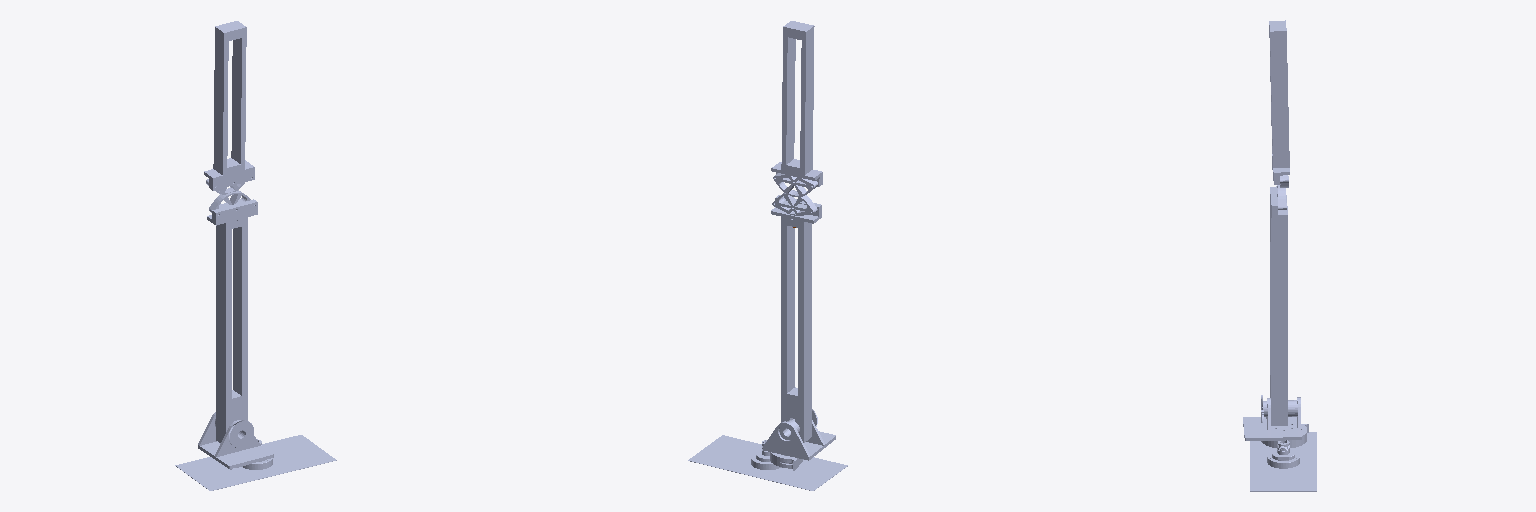
The robot description file, URDF, robot "robotic_arm":
<?xml version="1.0" encoding="utf-8"?>
<!-- This URDF was automatically created by SolidWorks to URDF Exporter! Originally created by [author] ([email redacted]) 
     Commit Version: 1.6.0-4-g7f85cfe  Build Version: 1.6.7995.38578
     For more information, please see http://wiki.ros.org/sw_urdf_exporter -->
<!-- Owner: [author]
    email: [email redacted] -->
<robot
  name="robotic_arm">
  <link name="world"/>

  <!-- JOINT b/W WORLD - BASE -->
  <joint name="base_link_fixed" type="fixed">
    <parent link="world"/>
    <child link="base_link"/>
    <origin xyz="0 0 0" rpy="0 0 0"/>
  </joint>

  <link
    name="base_link">
    <inertial>
      <origin xyz="0 0 0" rpy="0 0 0"/>
      <mass value="0.001"/>
      <inertia
        ixx="1e-6" ixy="0" ixz="0"
        iyy="1e-6" iyz="0"
        izz="1e-6"/>
    </inertial>
    <visual>
      <origin
        xyz="0 0 0"
        rpy="-1.5708 0 0" />
      <geometry>
        <mesh
          filename="package://robotic_arm/meshes/base_link.STL" />
      </geometry>
      <material
        name="">
        <color
          rgba="0.79216 0.81961 0.93333 1" />
      </material>
    </visual>
    <collision>
      <origin
        xyz="0 0 0"
        rpy="0 0 0" />
      <geometry>
        <mesh
          filename="package://robotic_arm/meshes/base_link.STL" />
      </geometry>
    </collision>
  </link>
  <link
    name="capstan_drive">
    <inertial>
      <origin
        xyz="-0.00010871 6.7353E-06 -0.017028"
        rpy="0 0 0" />
      <mass
        value="0.25255" />
      <inertia
        ixx="0.0001509"
        ixy="-2.9002E-09"
        ixz="4.457E-07"
        iyy="0.00015005"
        iyz="-5.7669E-09"
        izz="0.00025311" />
    </inertial>
    <visual>
      <origin
        xyz="0 0 -0.049"
        rpy="1.5708 0 0" />
      <geometry>
        <mesh
          filename="package://robotic_arm/meshes/capstan_drive.STL" />
      </geometry>
      <material
        name="">
        <color
          rgba="0.79216 0.81961 0.93333 1" />
      </material>
    </visual>
    <collision>
      <origin
        xyz="0 0 0"
        rpy="0 0 0" />
      <geometry>
        <mesh
          filename="package://robotic_arm/meshes/capstan_drive.STL" />
      </geometry>
    </collision>
    <gazebo>
      <static>true</static>
    </gazebo>
  </link>

  <!-- JOINT B/W CAPSTAN - BASE -->
  <joint
    name="base_capstan"
    type="fixed">
    <origin
      xyz="0 0 0.0395"
      rpy="0 0 0" />
    <parent
      link="base_link" />
    <child
      link="capstan_drive" />
    <axis
      xyz="0 0 0" />
  </joint>
  <link
    name="arm_base">
    <inertial>
      <origin
        xyz="-0.012584 -0.0065009 0.032254"
        rpy="0 0 0" />
      <mass
        value="0.70947" />
      <inertia
        ixx="0.0011099"
        ixy="-1.8074E-07"
        ixz="-0.00010562"
        iyy="0.0016516"
        iyz="1.4831E-07"
        izz="0.0023602" />
    </inertial>
    <visual>
      <origin
        xyz="0 -0.09 -0.06"
        rpy="1.5708 0 -1.5708" />
      <geometry>
        <mesh
          filename="package://robotic_arm/meshes/arm_base.STL" />
      </geometry>
      <material
        name="">
        <color
          rgba="0.79216 0.81961 0.93333 1" />
      </material>
    </visual>
    <collision>
      <origin
        xyz="0 0 0"
        rpy="0 0 0" />
      <geometry>
        <mesh
          filename="package://robotic_arm/meshes/arm_base.STL" />
      </geometry>
    </collision>
    <gazebo>
      <static>true</static>
    </gazebo>
  </link>
  <joint
    name="capstan_arm"
    type="revolute">
    <origin
      xyz="-0.088248 0.00055748 0.008"
      rpy="0 0 1.5894" />
    <parent
      link="capstan_drive" />
    <child
      link="arm_base" />
    <axis
      xyz="0 0 -1" />
    <limit
      lower="-1.4"
      upper="1.4"
      effort="36"
      velocity="0.001" />  <!-- should be 0.2 -->
  </joint>
  <link
    name="arm_link_1">
    <inertial>
      <origin
        xyz="1.3878E-17 -0.00051908 0.31703"
        rpy="0 0 0" />
      <mass
        value="1.9995" />
      <inertia
        ixx="0.012287"
        ixy="-6.7763E-20"
        ixz="-2.1344E-18"
        iyy="0.012814"
        iyz="3.6575E-05"
        izz="0.0015327" />
    </inertial>
    <visual>
      <origin
        xyz="0.09 0 -0.16"
        rpy="1.5708 0 0" />
      <geometry>
        <mesh
          filename="package://robotic_arm/meshes/arm_link_1.STL" />
      </geometry>
      <material
        name="">
        <color
          rgba="0.79216 0.81961 0.93333 1" />
      </material>
    </visual>
    <collision>
      <origin
        xyz="0 0 0"
        rpy="0 0 0" />
      <geometry>
        <mesh
          filename="package://robotic_arm/meshes/arm_link_1.STL" />
      </geometry>
    </collision>
    <gazebo>
      <static>true</static>
    </gazebo>
  </link>
  <joint
    name="base_arm_rot"
    type="revolute">
    <origin
      xyz="-0.0072956 0 0.1"
      rpy="0 0.00035591 -1.5708" />
    <parent
      link="arm_base" />
    <child
      link="arm_link_1" />
    <axis
      xyz="0 -1 0" />
    <limit
      lower="-0.5"
      upper="1.35"
      effort="25"
      velocity="0.1" />
  </joint>
  <link name="arm_link_1_helper">
  <inertial>
    <origin xyz="0 0 0" rpy="0 0 0"/>
    <mass value="0.001"/>  <!-- Small mass to avoid issues -->
    <inertia ixx="1e-6" ixy="0" ixz="0" iyy="1e-6" iyz="0" izz="1e-6"/>
  </inertial>
  <visual>
    <origin xyz="0 0 0" rpy="0 0 0"/>
    <geometry>
      <box size="0.01 0.01 0.01"/>  <!-- Small invisible cube -->
    </geometry>
    <material name="black"/>
  </visual>
</link>
  <joint
    name="arm_elbow_roll"
    type="revolute">
    <origin
      xyz="4.1173E-05 0.005238 0.62096"
      rpy="0.0068467 -0.00071181 0" />
    <parent
      link="arm_link_1" />
    <child
      link="arm_link_1_helper" />
    <axis
      xyz="0 1 0" />
    <limit
      lower="-0.5"
      upper="0.5"
      effort="12"
      velocity="0.15" />
  </joint>
  <link
    name="arm_link_2">
    <inertial>
      <origin
        xyz="-1.3878E-17 -0.0079993 0.24635"
        rpy="0 0 0" />
      <mass
        value="1.0306" />
      <inertia
        ixx="0.0063388"
        ixy="1.0842E-19"
        ixz="-1.5675E-19"
        iyy="0.0071309"
        iyz="-6.364E-05"
        izz="0.0011923" />
    </inertial>
    <visual>
      <origin
        xyz="0.084 0 -0.77"
        rpy="1.5708 0 0" />
      <geometry>
        <mesh
          filename="package://robotic_arm/meshes/arm_link_2.STL" />
      </geometry>
      <material
        name="">
        <color
          rgba="0.79216 0.81961 0.93333 1" />
      </material>
    </visual>
    <collision>
      <origin
        xyz="0 0 0"
        rpy="0 0 0" />
      <geometry>
        <mesh
          filename="package://robotic_arm/meshes/arm_link_2.STL" />
      </geometry>
    </collision>
    <gazebo>
      <static>true</static>
    </gazebo>
  </link>
  <joint
    name="arm_elbow"
    type="revolute">
    <origin
      xyz="4.1173E-05 0.005238 0.1"
      rpy="0.0068467 -0.00071181 0" />
    <parent
      link="arm_link_1_helper" />
    <child
      link="arm_link_2" />
    <axis
      xyz="0 1 0" />
    <limit
      lower="-1.4"
      upper="1.4"
      effort="12"
      velocity="0.15" />
  </joint>

  
</robot>

--- Facts derived from the render (not from the file) ---
Views: 3 orthographic renders of the robot side by side, from view 1: azimuth 30°, elevation 25°; view 2: azimuth 150°, elevation 25°; view 3: azimuth 270°, elevation 25°.
Robot: robotic_arm — 7 links, 6 joints (4 revolute, 2 fixed); root link world; default pose: every joint at zero.
Links seen in each view (by area): view 1: arm_link_1, arm_link_2, base_link, arm_base; view 2: arm_link_1, arm_link_2, base_link, arm_base; view 3: arm_link_1, arm_link_2, base_link, arm_base, capstan_drive.
Link boxes in pixels (box(x1,y1,x2,y2)): arm_link_1: box(207, 190, 257, 447); arm_link_2: box(204, 21, 254, 194); base_link: box(175, 435, 336, 490); arm_base: box(198, 412, 273, 469); arm_link_1: box(771, 190, 821, 442); arm_link_2: box(771, 21, 822, 196); base_link: box(688, 435, 847, 490); arm_base: box(763, 420, 835, 470); arm_link_1: box(1261, 185, 1297, 425); arm_link_2: box(1269, 20, 1289, 187); base_link: box(1250, 432, 1316, 491); arm_base: box(1243, 397, 1308, 447); capstan_drive: box(1267, 440, 1299, 468).
Size in the robot's own frame: 0.415 by 0.2214 by 1.4 metres.
5 mesh visuals loaded from 5 distinct referenced files (5 binary STL).
